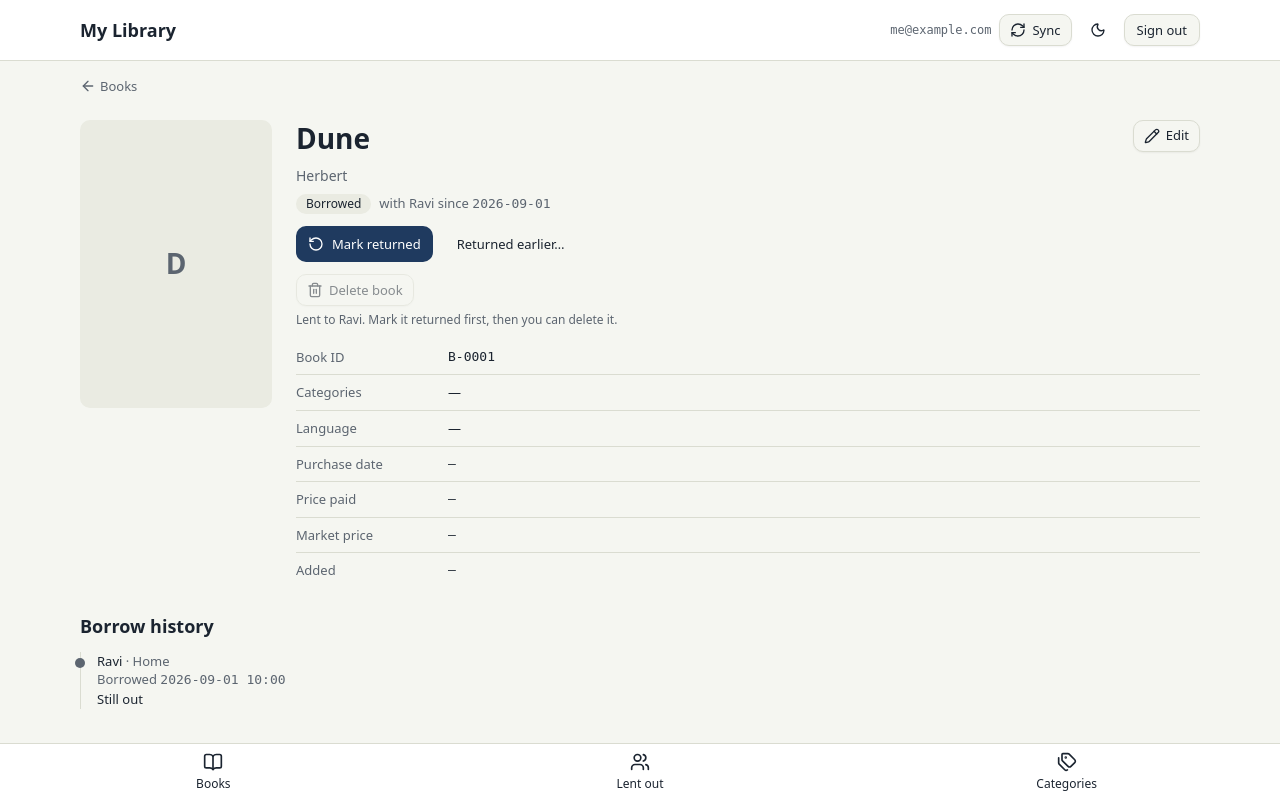
it: working offline, then syncing › an offline return and an offline edit are both sent, in order
Click the button "Mark returned" at (364, 244), box [296,226,433,262]
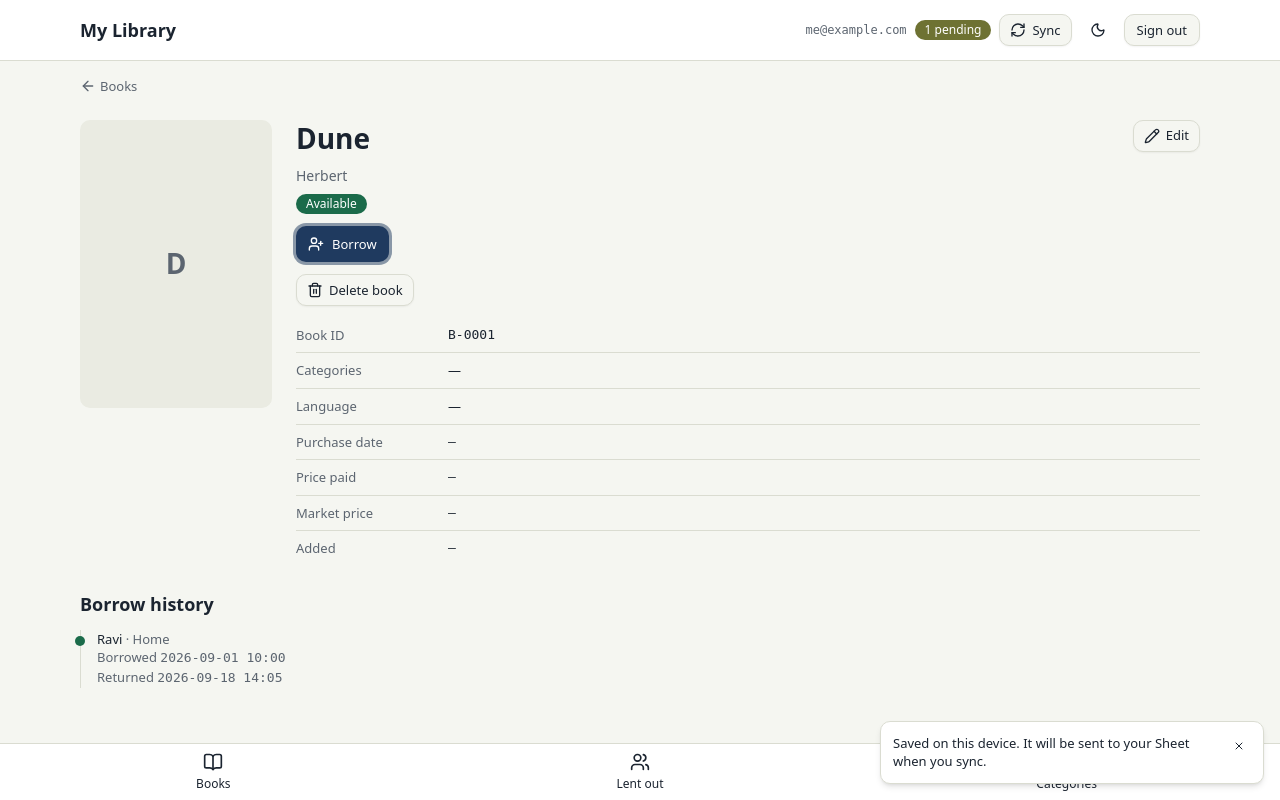
Expected: the text "Available" is shown, [296,194,367,214]
Expected: the link with aria-label "Pending changes: 1 waiting" is shown, [915,20,991,40]
Click the button "Sync" at (1036, 30), box [1000,14,1072,46]
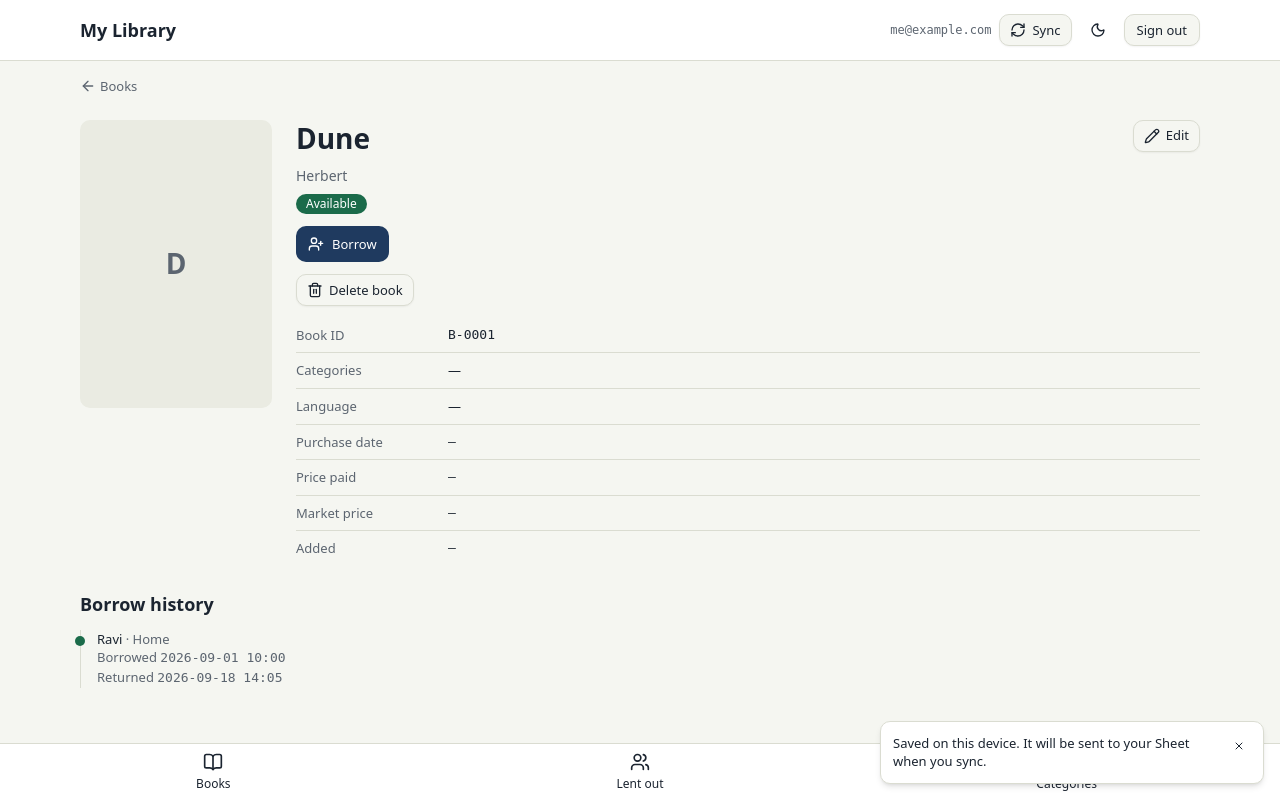
Expected: the link "pending" is gone
